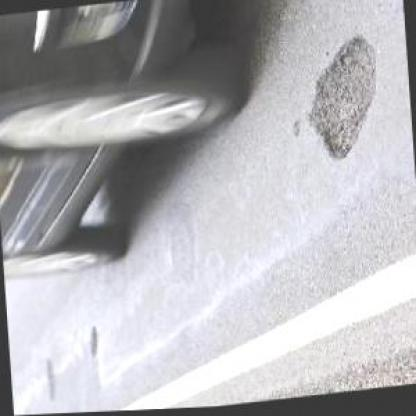pothole: (304, 34, 388, 166)
